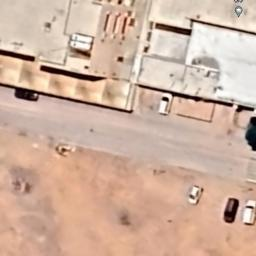SUV: (221, 194, 242, 228), (243, 199, 256, 225)
sedan: (156, 90, 176, 120)
van: (186, 183, 204, 209), (67, 39, 94, 53)
